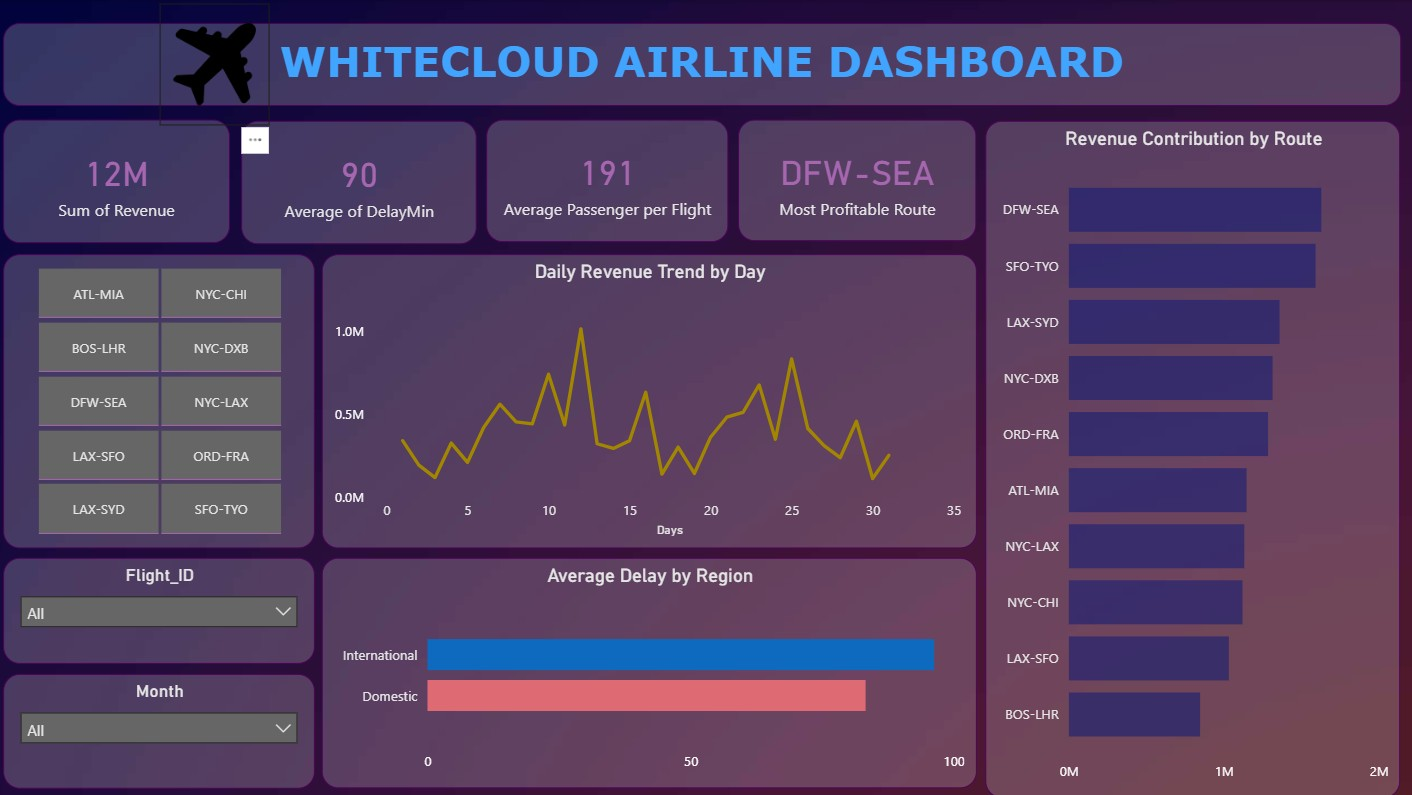

The dashboard page shown, as its layout file describes it:
{"tool":"powerbi","page":{"name":"Page 1","canvas":[1280,720],"ordinal":0},"visuals":[{"type":"card","title":"TOTAL REVENUE","fields":{"Values":["Sum(AirlinePerformance.Revenue)"]},"box":[8.4,108,203.9,111.6],"z":0},{"type":"card","title":"AVERAGE DELAY (In min)","fields":{"Values":["Avg(AirlinePerformance.DelayMin)"]},"box":[223.1,109.2,212.3,111.6],"z":1000},{"type":"card","title":"AVERAGE PASSENGER PER FLIGHT","fields":{"Values":["AirlinePerformance.Average Passenger per flight"]},"box":[443.9,108,218.3,110.4],"z":2000},{"type":"card","title":"MOST PROFITABLE ROUTE","fields":{"Values":["Min(AirlinePerformance.Route)"]},"box":[670.6,108,214.7,109.2],"z":3000},{"type":"lineChart","fields":{"Y":["Sum(AirlinePerformance.Revenue)"],"Category":["AirlinePerformance.Date.Variation.Date Hierarchy.Year","AirlinePerformance.Date.Variation.Date Hierarchy.Quarter","AirlinePerformance.Date.Variation.Date Hierarchy.Month","AirlinePerformance.Date.Variation.Date Hierarchy.Day"]},"box":[295.1,229.1,590.2,265.1],"z":4000},{"type":"clusteredBarChart","fields":{"Category":["AirlinePerformance.Region"],"Y":["Avg(AirlinePerformance.DelayMin)"]},"box":[295.1,502.7,590.2,207.5],"z":5000},{"type":"clusteredBarChart","title":"Revenue Contribution by Route","fields":{"Category":["AirlinePerformance.Route"],"Y":["Sum(AirlinePerformance.Revenue)"]},"box":[893.8,109.2,374.3,610.6],"z":6000},{"type":"slicer","title":"Flight_ID","fields":{"Values":["AirlinePerformance.FlightID"]},"box":[8.4,502.7,280.7,96],"z":7000},{"type":"slicer","fields":{"Values":["AirlinePerformance.Route"]},"box":[8.4,229.1,280.7,265.1],"z":8000},{"type":"slicer","title":"Month","fields":{"Values":["AirlinePerformance.Date.Variation.Date Hierarchy.Month"]},"box":[8.4,607,280.7,103.2],"z":9000},{"type":"textbox","box":[8.4,20.4,1259.7,74.4],"z":10000},{"type":"image","box":[149.3,3.1,99.5,109.9],"z":11000}]}

Visuals, with their boxes in screenshot pixels (x1, y1, x2, y2), scaled from the page's 1280x720 canvas onto the 1412x795 screenshot:
"TOTAL REVENUE" card: crop(9, 119, 234, 242)
"AVERAGE DELAY (In min)" card: crop(246, 121, 480, 244)
"AVERAGE PASSENGER PER FLIGHT" card: crop(490, 119, 730, 241)
"MOST PROFITABLE ROUTE" card: crop(740, 119, 977, 240)
lineChart - Sum(AirlinePerformance.Revenue) x AirlinePerformance.Date.Variation.Date Hierarchy.Year: crop(326, 253, 977, 546)
clusteredBarChart - AirlinePerformance.Region x Avg(AirlinePerformance.DelayMin): crop(326, 555, 977, 784)
"Revenue Contribution by Route" clusteredBarChart: crop(986, 121, 1399, 794)
"Flight_ID" slicer: crop(9, 555, 319, 661)
slicer - AirlinePerformance.Route: crop(9, 253, 319, 546)
"Month" slicer: crop(9, 670, 319, 784)
textbox: crop(9, 23, 1399, 105)
image: crop(165, 3, 274, 125)
